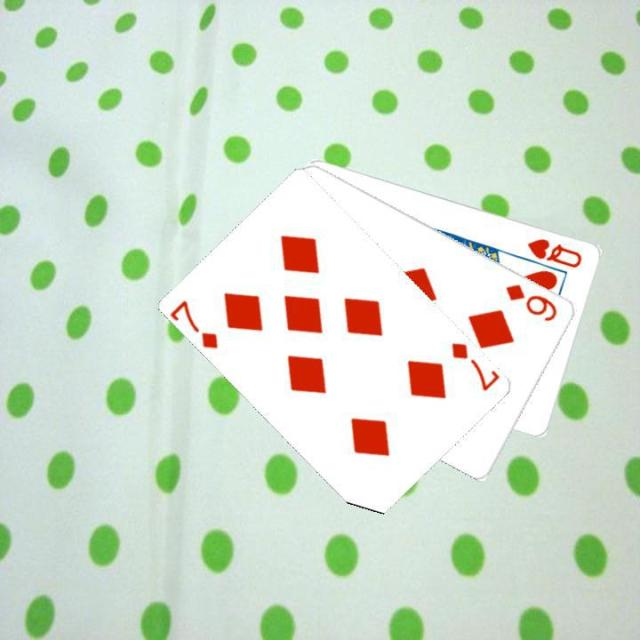6D: (502, 280, 560, 324)
7D: (168, 296, 221, 351), (448, 338, 500, 394)
QH: (523, 234, 585, 269)
